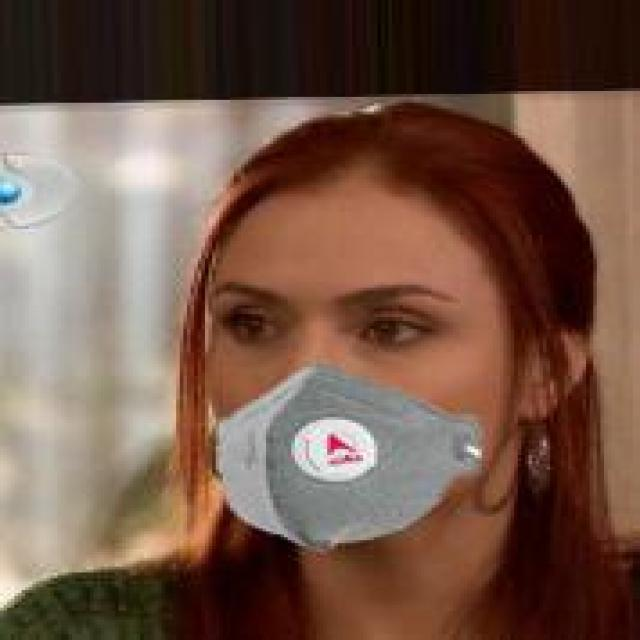mask: (126, 97, 611, 593)
